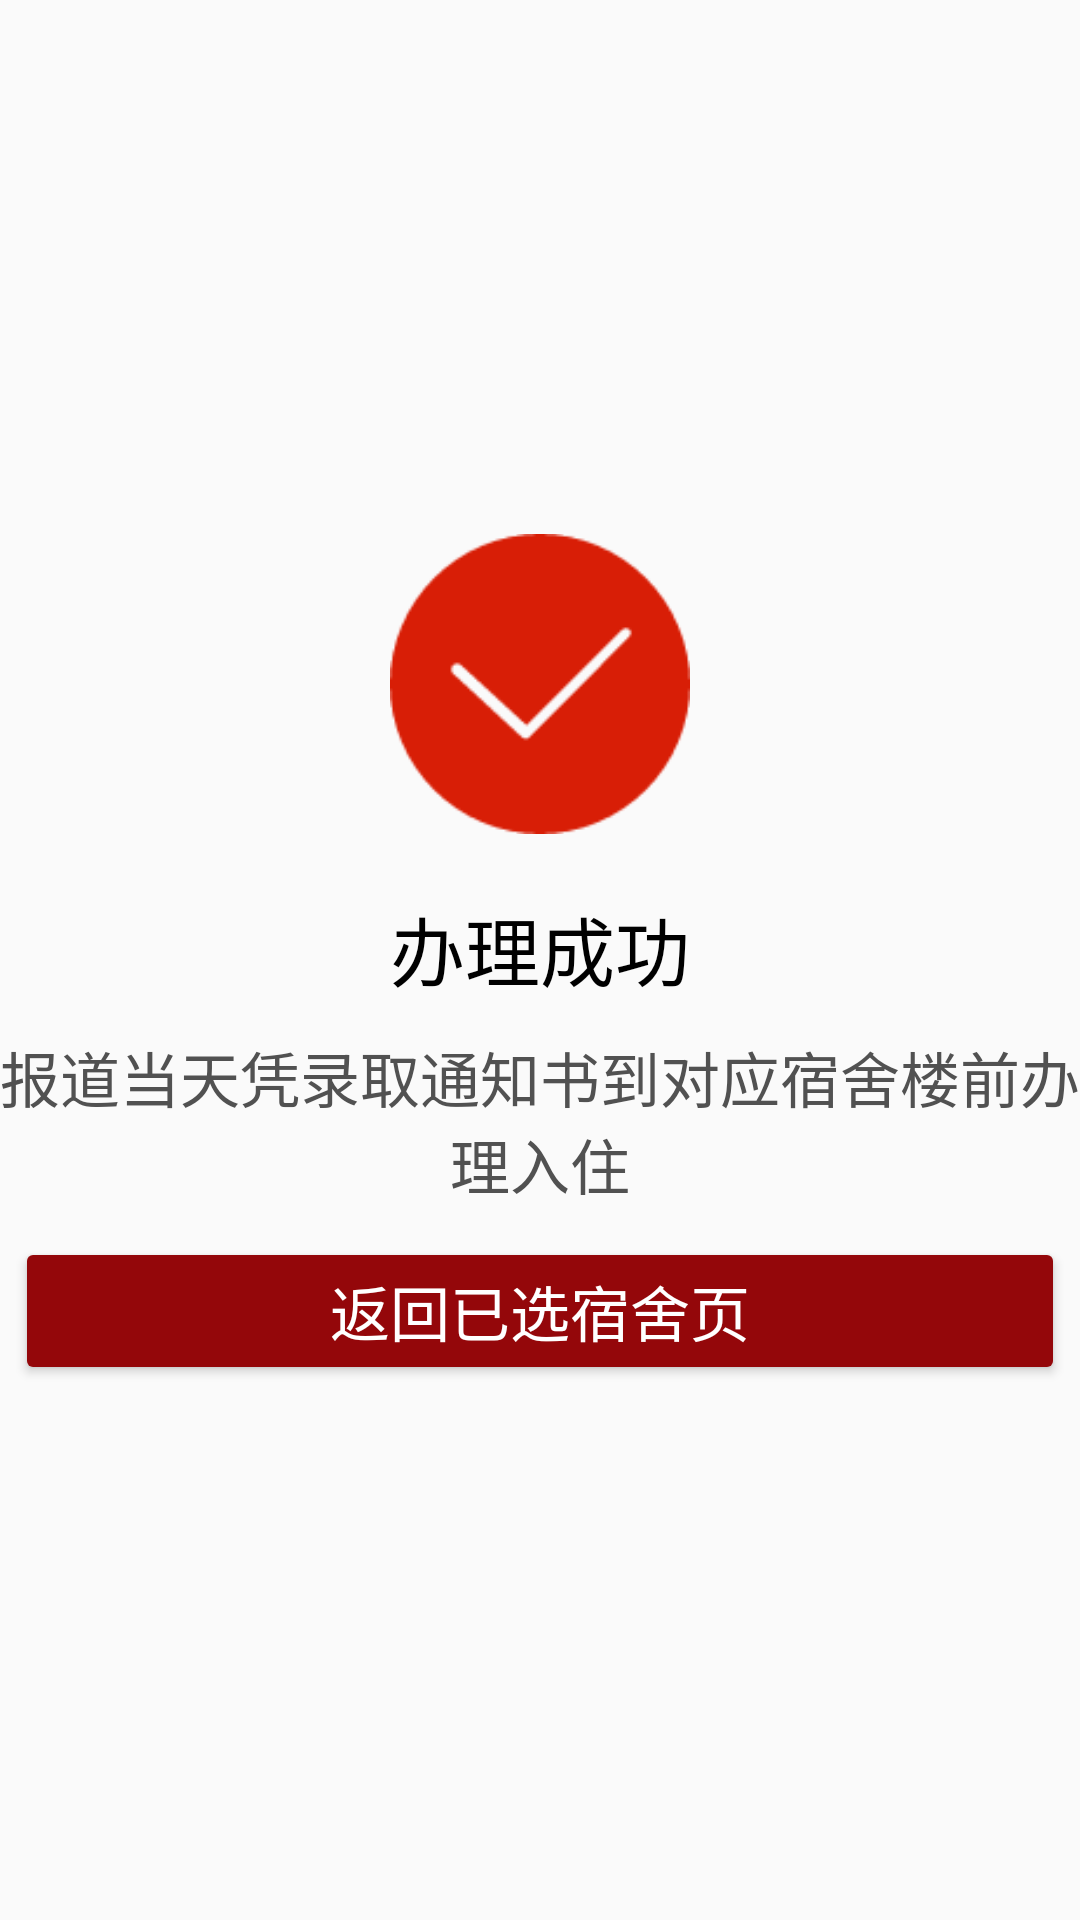

Icon click points for this 1080x1920 phone screenshot, format point (x, y):
check: point (540, 684)
